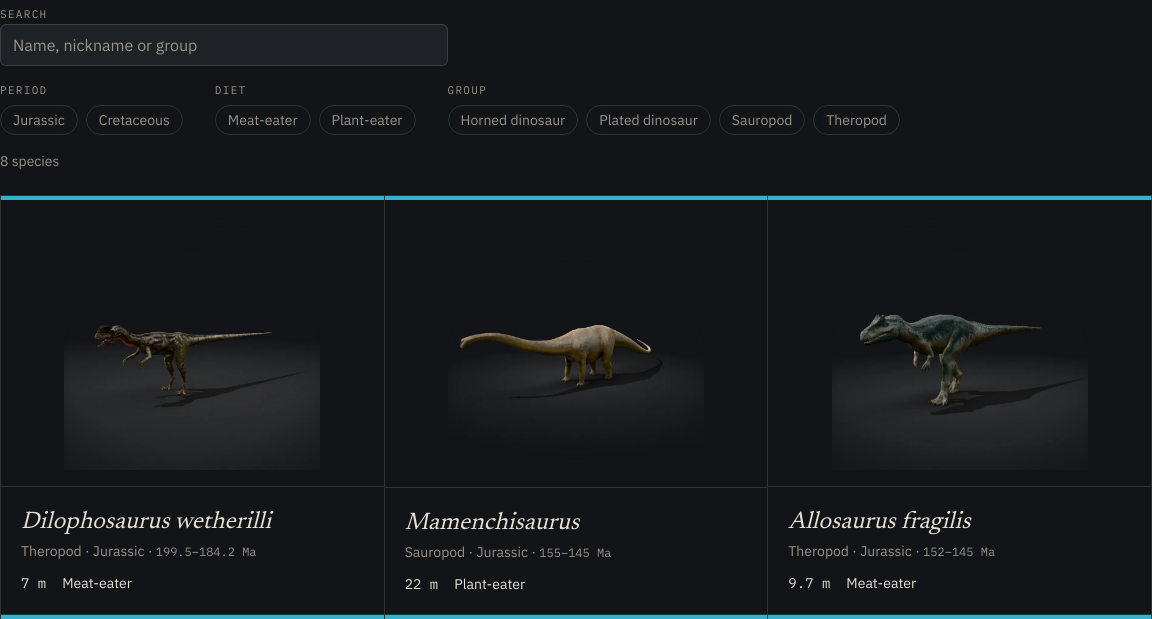
SpeciesBrowser › narrows by filter chips, which toggle and combine
Step 1. Click the button "Jurassic" → x=39, y=120, box [0,104,78,134]
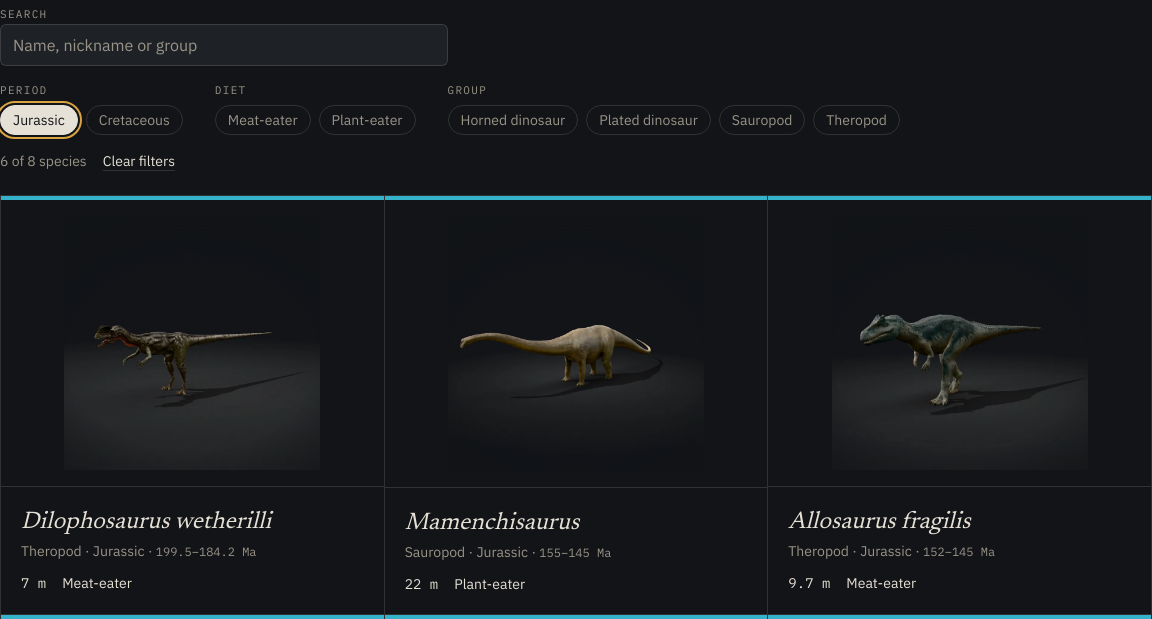
Result: the button "Jurassic" is pressed at [0,104,78,134]
Step 2. Click the button "Meat-eater" → x=263, y=120, box [215,104,310,134]
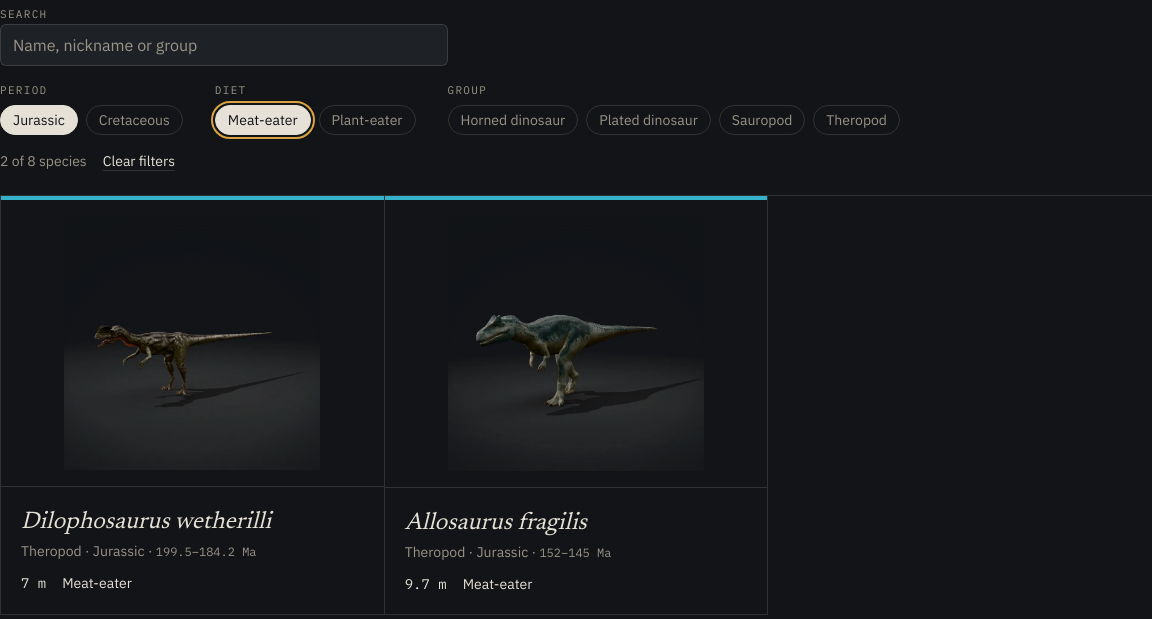
Result: the message shows "2 of 8 species" at [0,152,87,170]
Step 3. Click the button "Jurassic" → x=39, y=120, box [0,104,78,134]
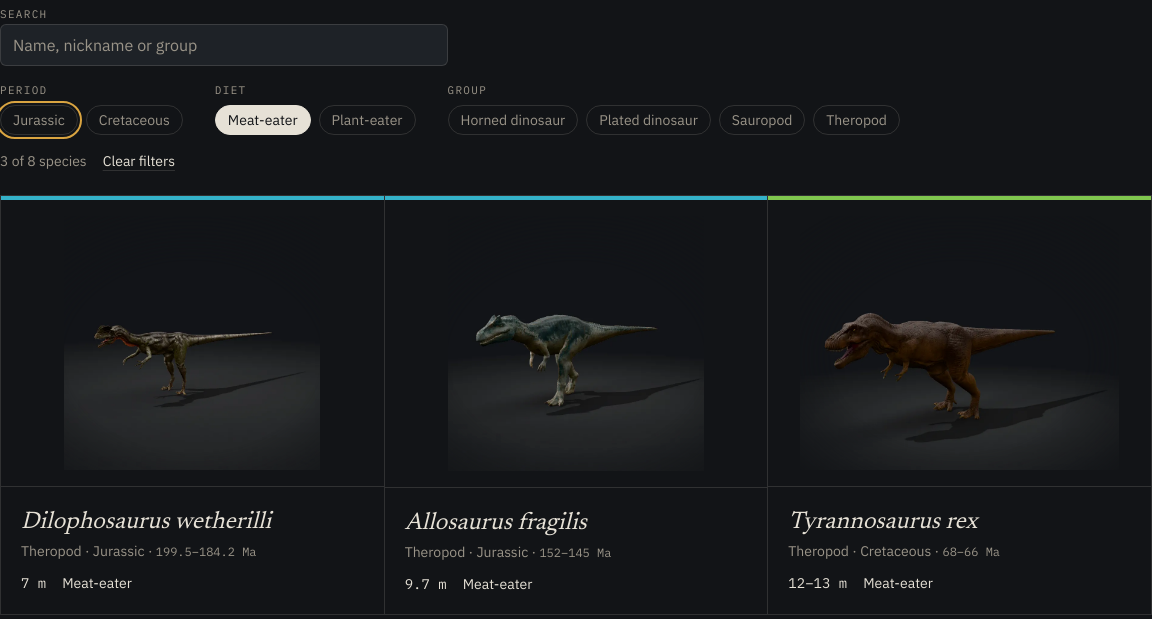
Result: the number of links is 3 at [1,196,384,614]; [385,196,767,614]; [768,196,1151,614]
